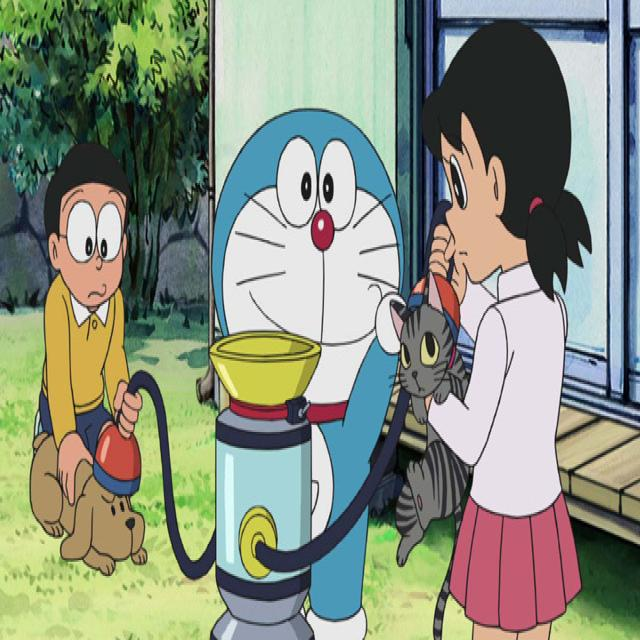doraemon: (209, 96, 407, 462)
nobita: (41, 137, 134, 325)
shizuka: (417, 11, 590, 300)
